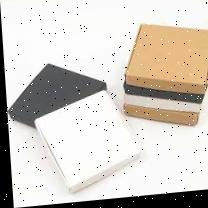cube: (115, 23, 208, 136)
